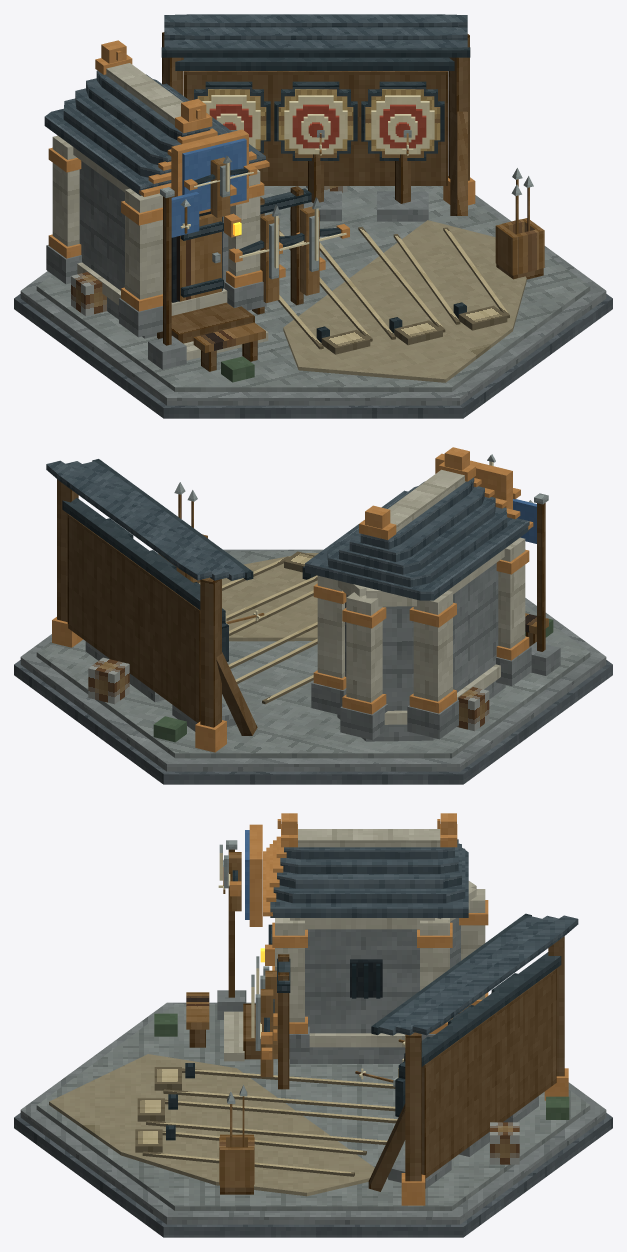
File: dwarf_ranger_camp_hex_v1.glb
3 views of the same model, one above another, from view 1: azimuth 30°, elevation 25°; view 2: azimuth 150°, elevation 25°; view 3: azimuth 270°, elevation 25° (orthographic).
Parts seen in each view (by area): view 1: Dwarf_Ranger_Camp_Hex_V1_Foundation, Dwarf_Ranger_Camp_Hex_V1_Targets, Dwarf_Ranger_Camp_Hex_V1_Courtyard, Dwarf_Ranger_Camp_Hex_V1_Roofs, Dwarf_Ranger_Camp_Hex_V1_Lodge, Dwarf_Ranger_Camp_Hex_V1_Equipment, Dwarf_Ranger_Camp_Hex_V1_Details, Dwarf_Ranger_Camp_Hex_V1_Faction; view 2: Dwarf_Ranger_Camp_Hex_V1_Foundation, Dwarf_Ranger_Camp_Hex_V1_Lodge, Dwarf_Ranger_Camp_Hex_V1_Targets, Dwarf_Ranger_Camp_Hex_V1_Roofs, Dwarf_Ranger_Camp_Hex_V1_Courtyard, Dwarf_Ranger_Camp_Hex_V1_Details, Dwarf_Ranger_Camp_Hex_V1_Faction, Dwarf_Ranger_Camp_Hex_V1_Equipment; view 3: Dwarf_Ranger_Camp_Hex_V1_Foundation, Dwarf_Ranger_Camp_Hex_V1_Courtyard, Dwarf_Ranger_Camp_Hex_V1_Roofs, Dwarf_Ranger_Camp_Hex_V1_Targets, Dwarf_Ranger_Camp_Hex_V1_Lodge, Dwarf_Ranger_Camp_Hex_V1_Details, Dwarf_Ranger_Camp_Hex_V1_Equipment.
Part boxes in pixels (x1=…): Dwarf_Ranger_Camp_Hex_V1_Foundation: x1=14, y1=186, x2=612, y2=418; Dwarf_Ranger_Camp_Hex_V1_Targets: x1=162, y1=32, x2=475, y2=221; Dwarf_Ranger_Camp_Hex_V1_Courtyard: x1=157, y1=220, x2=526, y2=382; Dwarf_Ranger_Camp_Hex_V1_Roofs: x1=44, y1=14, x2=470, y2=196; Dwarf_Ranger_Camp_Hex_V1_Lodge: x1=46, y1=129, x2=266, y2=338; Dwarf_Ranger_Camp_Hex_V1_Equipment: x1=229, y1=168, x2=544, y2=314; Dwarf_Ranger_Camp_Hex_V1_Details: x1=71, y1=155, x2=466, y2=382; Dwarf_Ranger_Camp_Hex_V1_Faction: x1=171, y1=138, x2=246, y2=237; Dwarf_Ranger_Camp_Hex_V1_Foundation: x1=14, y1=549, x2=612, y2=784; Dwarf_Ranger_Camp_Hex_V1_Lodge: x1=311, y1=453, x2=531, y2=741; Dwarf_Ranger_Camp_Hex_V1_Targets: x1=52, y1=479, x2=264, y2=752; Dwarf_Ranger_Camp_Hex_V1_Roofs: x1=46, y1=447, x2=533, y2=600; Dwarf_Ranger_Camp_Hex_V1_Courtyard: x1=199, y1=551, x2=318, y2=704; Dwarf_Ranger_Camp_Hex_V1_Details: x1=88, y1=454, x2=560, y2=742; Dwarf_Ranger_Camp_Hex_V1_Faction: x1=513, y1=499, x2=536, y2=543; Dwarf_Ranger_Camp_Hex_V1_Equipment: x1=161, y1=482, x2=207, y2=583; Dwarf_Ranger_Camp_Hex_V1_Foundation: x1=14, y1=1002, x2=612, y2=1237; Dwarf_Ranger_Camp_Hex_V1_Courtyard: x1=49, y1=1003, x2=397, y2=1196; Dwarf_Ranger_Camp_Hex_V1_Roofs: x1=263, y1=813, x2=578, y2=1035; Dwarf_Ranger_Camp_Hex_V1_Targets: x1=355, y1=936, x2=568, y2=1205; Dwarf_Ranger_Camp_Hex_V1_Lodge: x1=249, y1=824, x2=488, y2=1063; Dwarf_Ranger_Camp_Hex_V1_Details: x1=154, y1=840, x2=569, y2=1164; Dwarf_Ranger_Camp_Hex_V1_Equipment: x1=219, y1=954, x2=290, y2=1194.
Bounding box in the file's own units: 1.59 × 0.835 × 1.84.
Materials: 1 (1 with a texture image).
